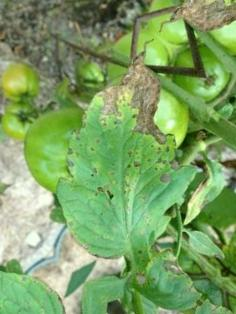Tomato leaf bacterial spot: (16, 39, 236, 284)
